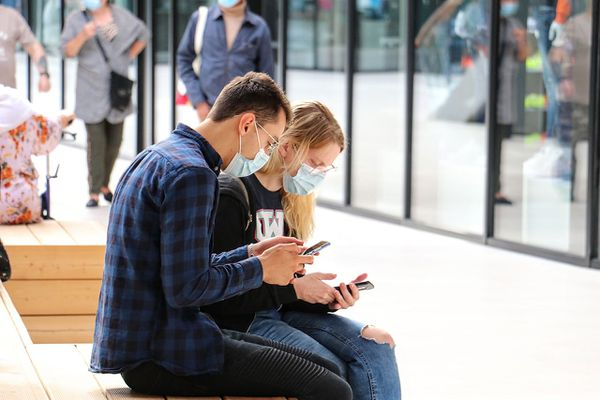with_mask: (220, 122, 289, 178), (280, 150, 334, 195)
